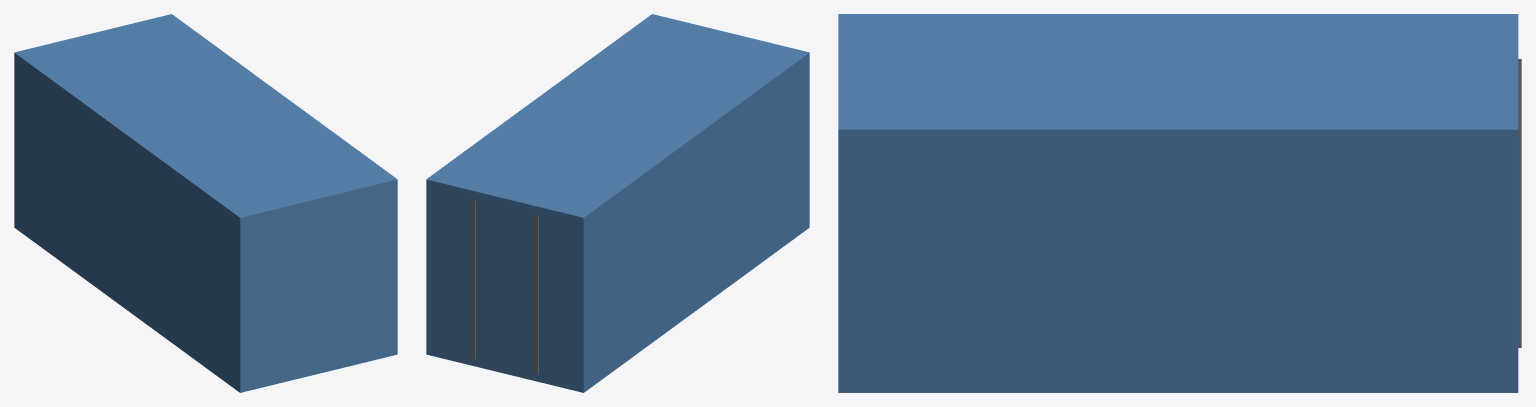
The model's file is port_container3.fbx.
The picture shows the model from 3 angles, left to right: view 1: azimuth 30°, elevation 25°; view 2: azimuth 150°, elevation 25°; view 3: azimuth 270°, elevation 25°; orthographic projection. The views are drawn at different scales.
Visible parts, largest first — view 1: a403_0_port_container3; view 2: a403_0_port_container3; view 3: a403_0_port_container3.
Boxes of the visible parts, x1=… form: a403_0_port_container3: x1=14, y1=14, x2=397, y2=392; a403_0_port_container3: x1=426, y1=14, x2=809, y2=392; a403_0_port_container3: x1=838, y1=14, x2=1521, y2=392.
Bounding box in the file's own units: 2.44 × 2.59 × 6.09.
